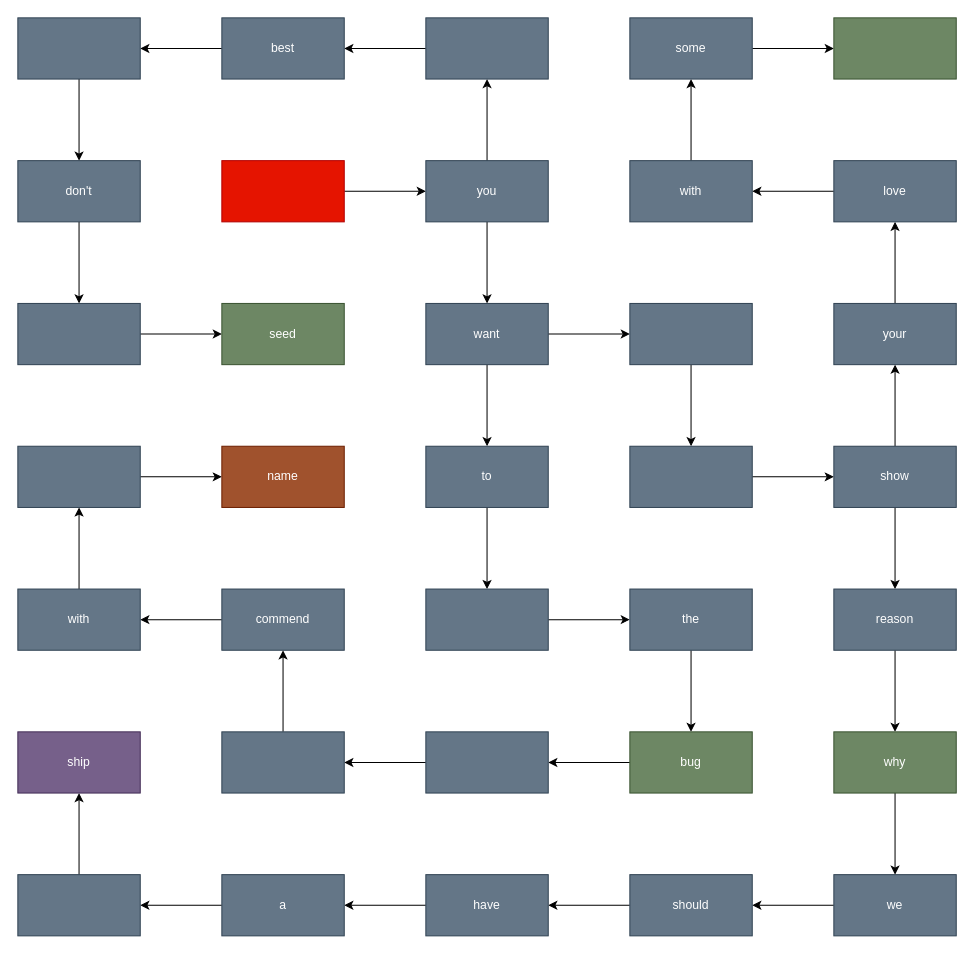
The diagram is 974 pixels wide and 954 high, and some of its shapes have lost their labels. The shapes that lost their labels are listed below. From the top down, each one's box as (x1, y1, x2, y2) in pixels, then its label:
(17, 17, 140, 79): but
(425, 17, 548, 79): try
(833, 17, 956, 79): money
(221, 160, 344, 222): if
(17, 302, 140, 365): suck
(629, 302, 752, 365): me
(17, 445, 140, 507): its
(629, 445, 752, 507): then
(425, 588, 548, 650): catch
(221, 731, 344, 793): pkill
(425, 731, 548, 793): use
(17, 874, 140, 936): relation
